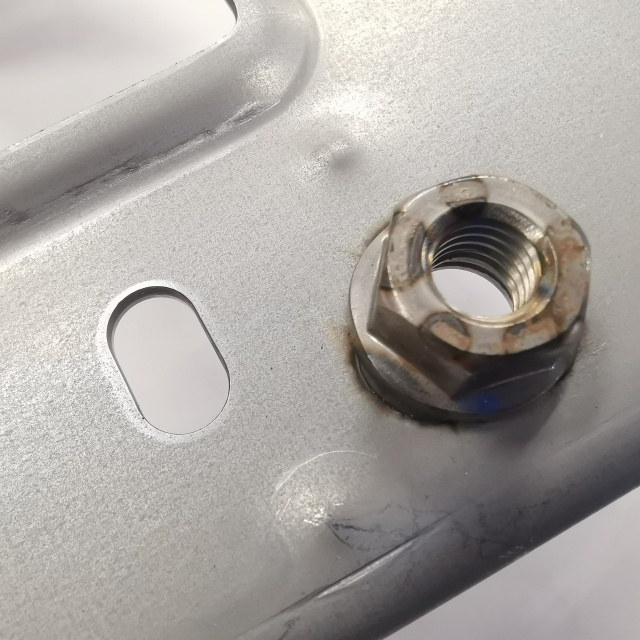dog: (341, 169, 597, 429)
